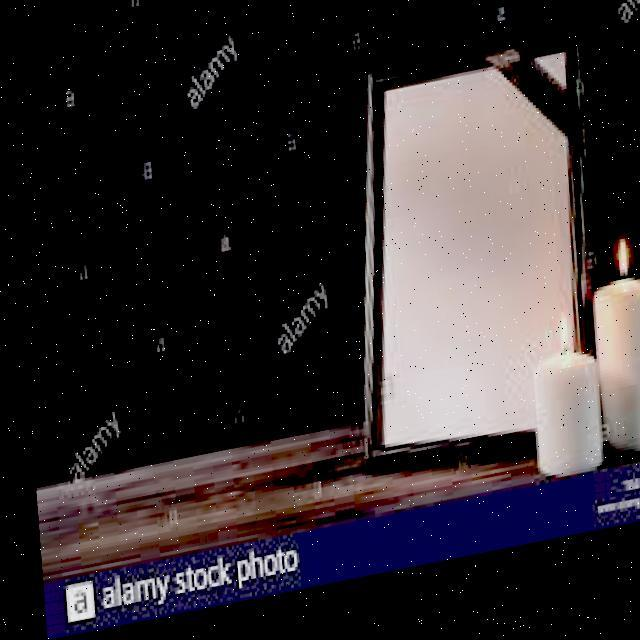Fire: (542, 322, 564, 372), (604, 256, 624, 305)
